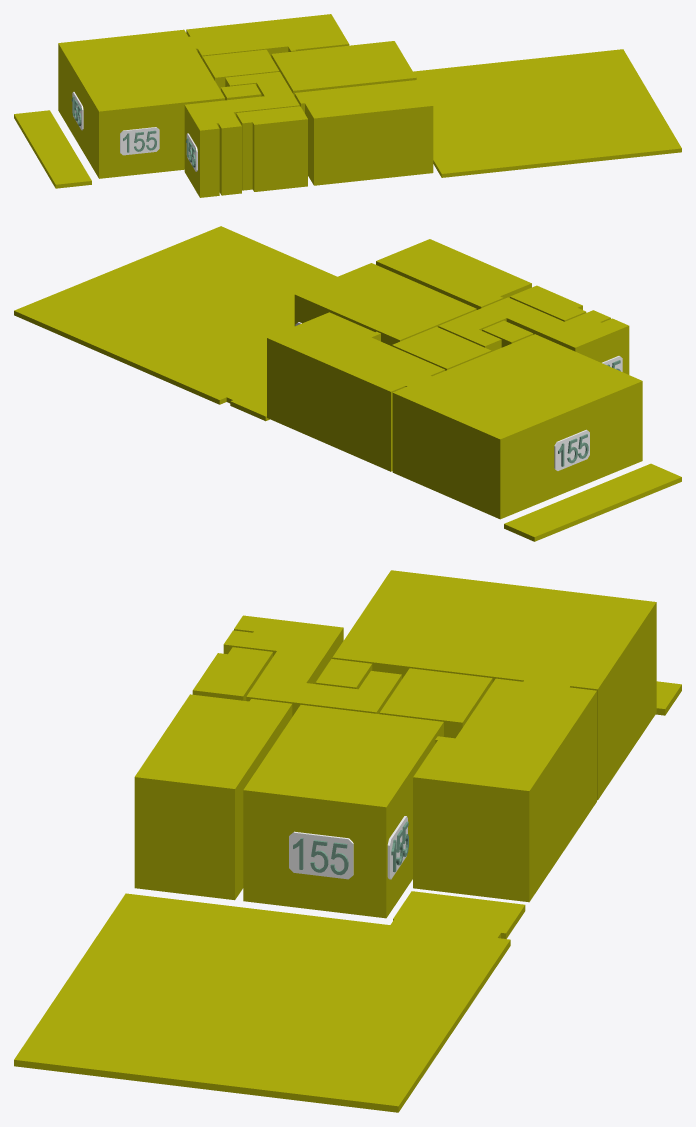
3 renders of one model, top to bottom at view 1: azimuth 30°, elevation 25°; view 2: azimuth 150°, elevation 25°; view 3: azimuth 270°, elevation 25°, orthographic. The views are drawn at different scales.
Parts seen in each view (by area): view 1: g_8, g_1, g_7, g_4, g_5, g_6, g_0, g_9, g_2, g_17, g_3; view 2: g_1, g_8, g_0, g_6, g_4, g_7, g_9, g_2, g_5, g_29, g_3; view 3: g_8, g_1, g_0, g_6, g_7, g_4, g_2, g_5, g_21, g_3.
Boxes of the visible parts, <box> form: g_8: <box>413,49,681,177</box>; g_1: <box>58,29,224,178</box>; g_7: <box>294,80,433,185</box>; g_4: <box>184,72,299,197</box>; g_5: <box>236,106,307,191</box>; g_6: <box>271,41,416,95</box>; g_0: <box>186,14,349,59</box>; g_9: <box>14,110,91,188</box>; g_2: <box>202,49,279,90</box>; g_17: <box>120,127,159,155</box>; g_3: <box>221,84,261,100</box>; g_1: <box>392,334,642,519</box>; g_8: <box>14,226,337,421</box>; g_0: <box>267,312,445,471</box>; g_6: <box>294,263,476,346</box>; g_4: <box>438,297,629,374</box>; g_7: <box>376,239,531,309</box>; g_9: <box>504,463,681,541</box>; g_2: <box>392,326,491,370</box>; g_5: <box>510,285,586,321</box>; g_29: <box>554,429,589,470</box>; g_3: <box>482,320,533,347</box>; g_8: <box>14,891,525,1112</box>; g_1: <box>332,570,656,800</box>; g_0: <box>413,678,596,902</box>; g_6: <box>243,705,443,918</box>; g_7: <box>134,694,292,900</box>; g_4: <box>223,615,401,716</box>; g_2: <box>379,668,492,738</box>; g_5: <box>192,647,272,700</box>; g_21: <box>289,831,353,879</box>; g_3: <box>315,659,372,689</box>.
Bounding box in the file's own units: 22.62 × 2.74 × 14.03.
